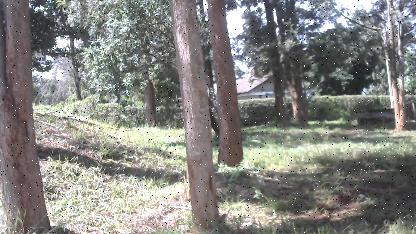tree: (0, 0, 58, 234), (78, 0, 180, 128), (168, 0, 224, 230), (202, 0, 250, 170), (262, 0, 320, 128)
